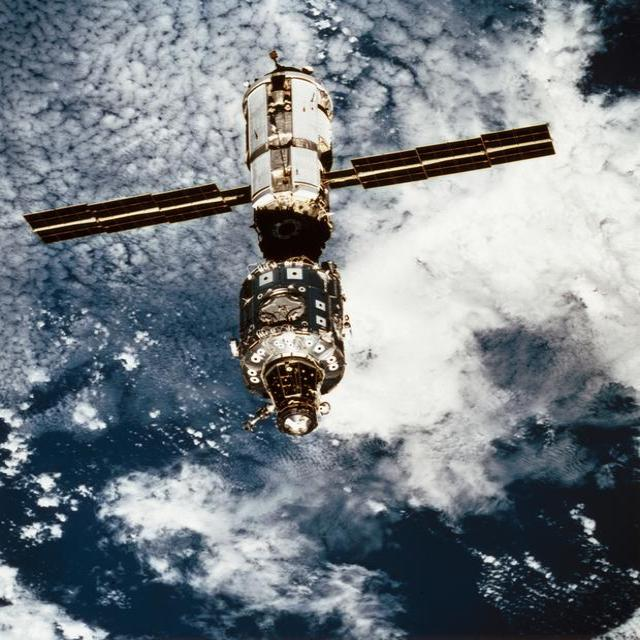medium_debris: (26, 54, 555, 434)
